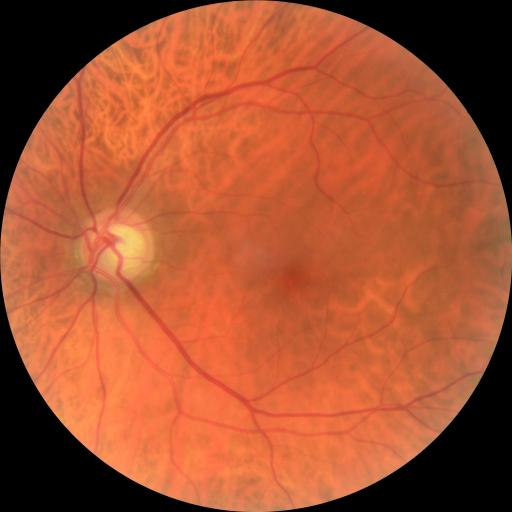Optic Cup: (95, 224, 145, 273)
Optic Disc: (81, 207, 154, 285)
